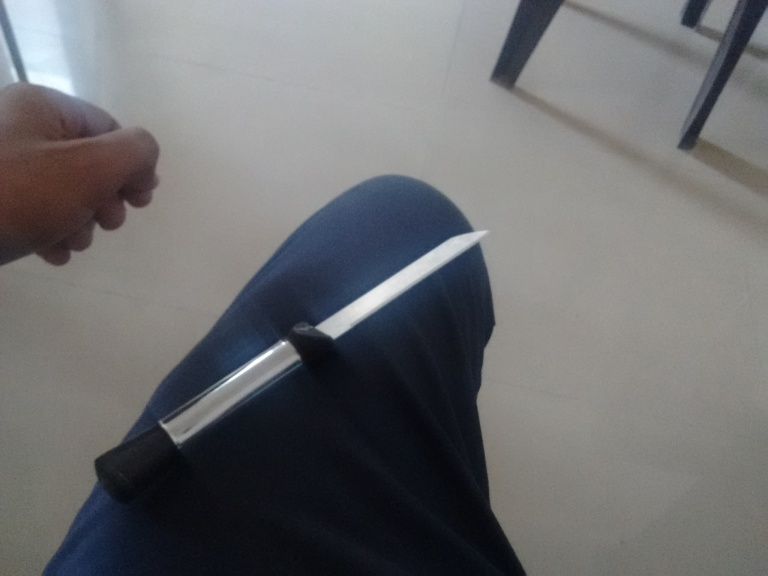knife: (90, 228, 488, 504)
